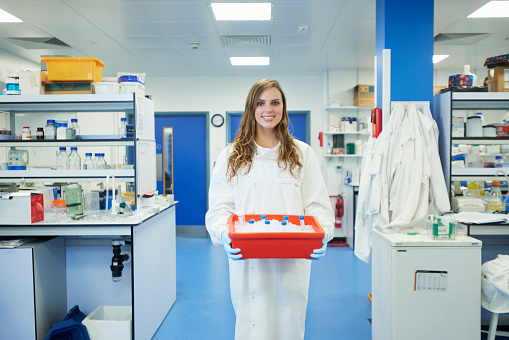em pe: (206, 79, 333, 258)
